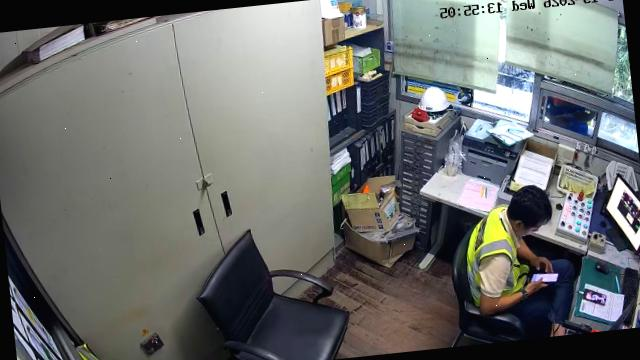Head: (507, 187, 552, 237)
People: (468, 187, 575, 338)
Phone: (584, 289, 605, 304), (530, 274, 557, 283)
